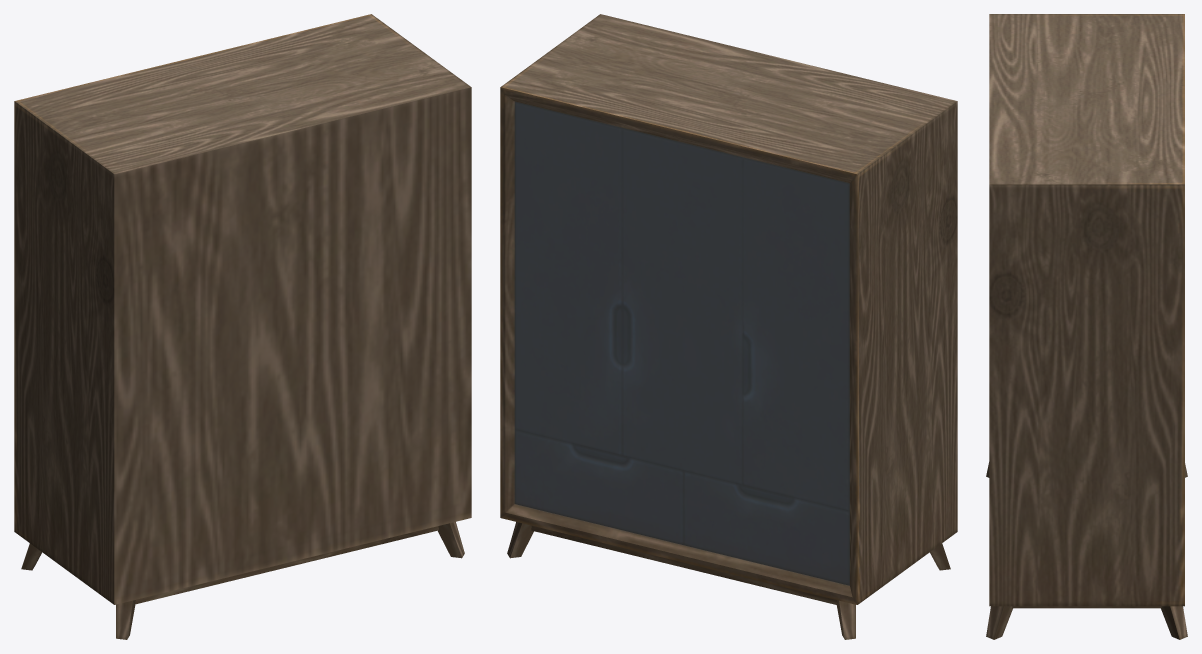
The model's file is P_Cabinet_006_S1_M04.obj.
The picture shows the model from 3 angles, left to right: view 1: azimuth 30°, elevation 25°; view 2: azimuth 150°, elevation 25°; view 3: azimuth 270°, elevation 25°; orthographic projection. The views are drawn at different scales.
Bounding box in the file's own units: 2 × 2.5 × 1.
Materials: 1 (1 with a texture image).
